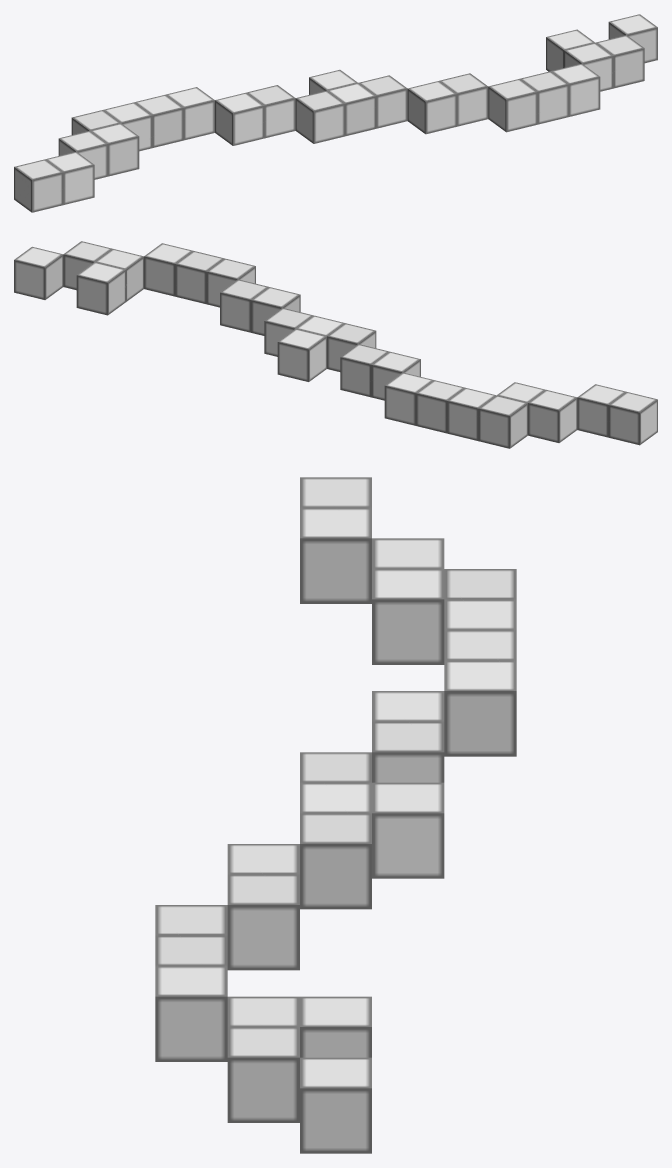
File: cable_run.glb
3 renders of one model, top to bottom at view 1: azimuth 30°, elevation 25°; view 2: azimuth 150°, elevation 25°; view 3: azimuth 270°, elevation 25°, orthographic. The views are drawn at different scales.
Visible parts, largest first — view 1: cable_run; view 2: cable_run; view 3: cable_run.
Boxes of the visible parts, x1,y1,x2,y2 form: cable_run: (14, 14, 657, 212); cable_run: (14, 241, 657, 448); cable_run: (155, 477, 516, 1153).
Bounding box in the file's own units: 1 × 0.05 × 0.25.
Materials: 1 (1 with a texture image).
